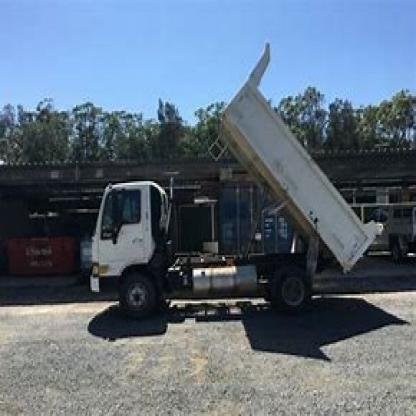dump_truck: (77, 39, 389, 322)
